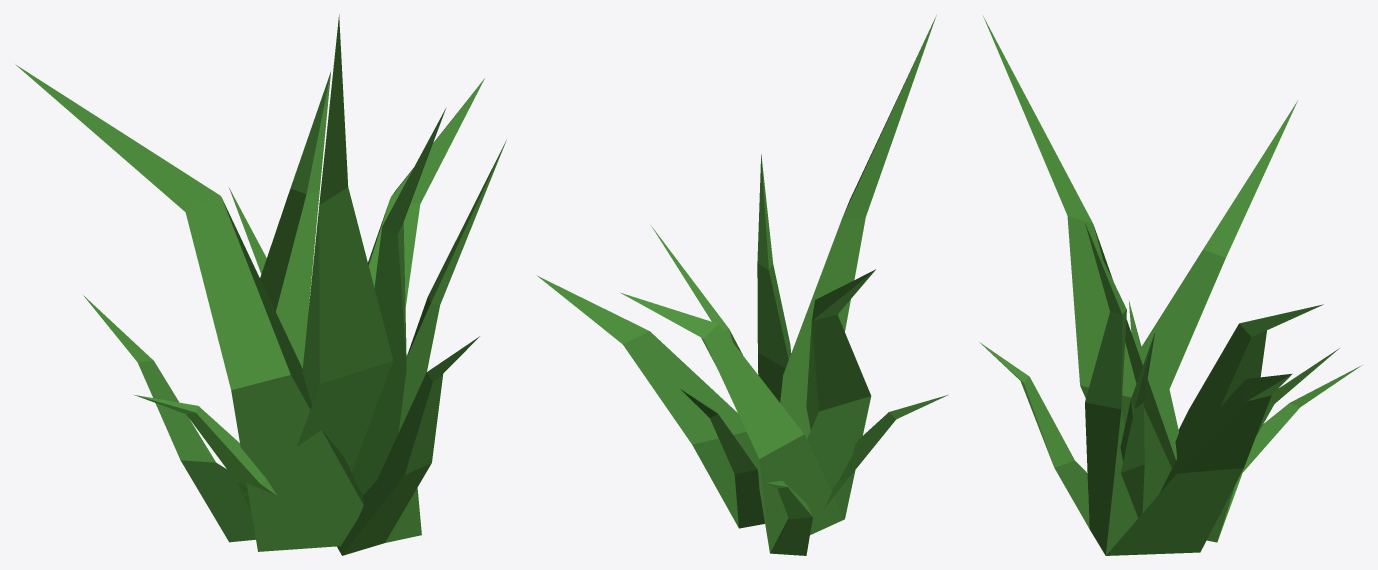
The model's file is PatchOfGrass1.fbx.
3 renders of one model, left to right at view 1: azimuth 30°, elevation 25°; view 2: azimuth 150°, elevation 25°; view 3: azimuth 270°, elevation 25°, orthographic. The views are drawn at different scales.
Parts seen in each view (by area): view 1: Cone.001; view 2: Cone.001; view 3: Cone.001.
Part boxes in pixels (x1,y1,x2,y2): Cone.001: (15,14,506,555); Cone.001: (537,15,948,555); Cone.001: (979,16,1361,555).
Size of the model in its own units: 8.52 by 11.2 by 7.83.
